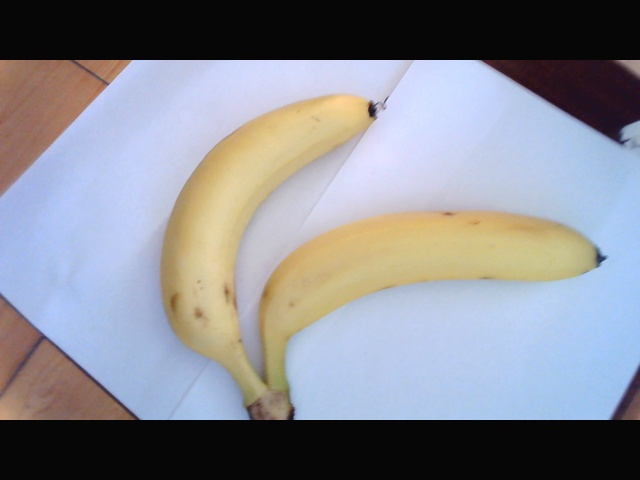banana: (155, 68, 351, 397), (237, 199, 608, 353)
